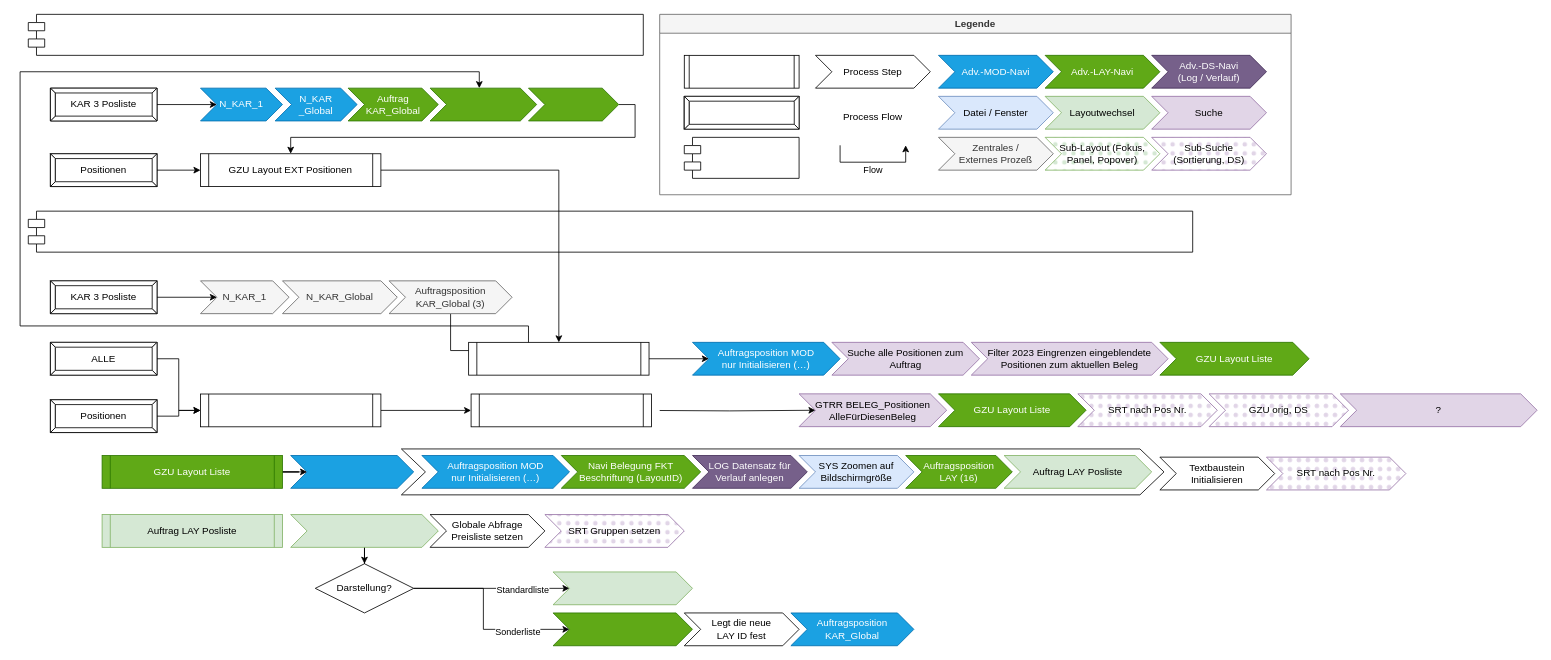
Image size: 1551x660. Some labels were removed from this diagram. The shapes that lost their labels are listed below. From the top down, each one's centre as x and y in pixels, then its label:
At pixel 335 34: "Auftrag".
At pixel 741 71: "Script / Prozeßblock".
At pixel 483 104: "Auftrag LAY (3)".
At pixel 573 104: "Auftrag LAY Position (X)".
At pixel 741 112: "Button / Menüauswahl".
At pixel 741 157: "Modul".
At pixel 610 231: "Auftrpos".
At pixel 558 358: "GZU Position von AT oder neue Pos anzeigen (Schlüssel AT)".
At pixel 290 410: "N_AKT_DS_alle_aufrufen".
At pixel 560 410: "GZU Alle DS".
At pixel 352 471: "Auftragsposition KAR_Global (16)".
At pixel 364 530: "Layout Auswahl".
At pixel 622 588: "EL Positionen [LFP] mit/ohne Details".
At pixel 622 629: "GZU Layout XYZ-Liste".
